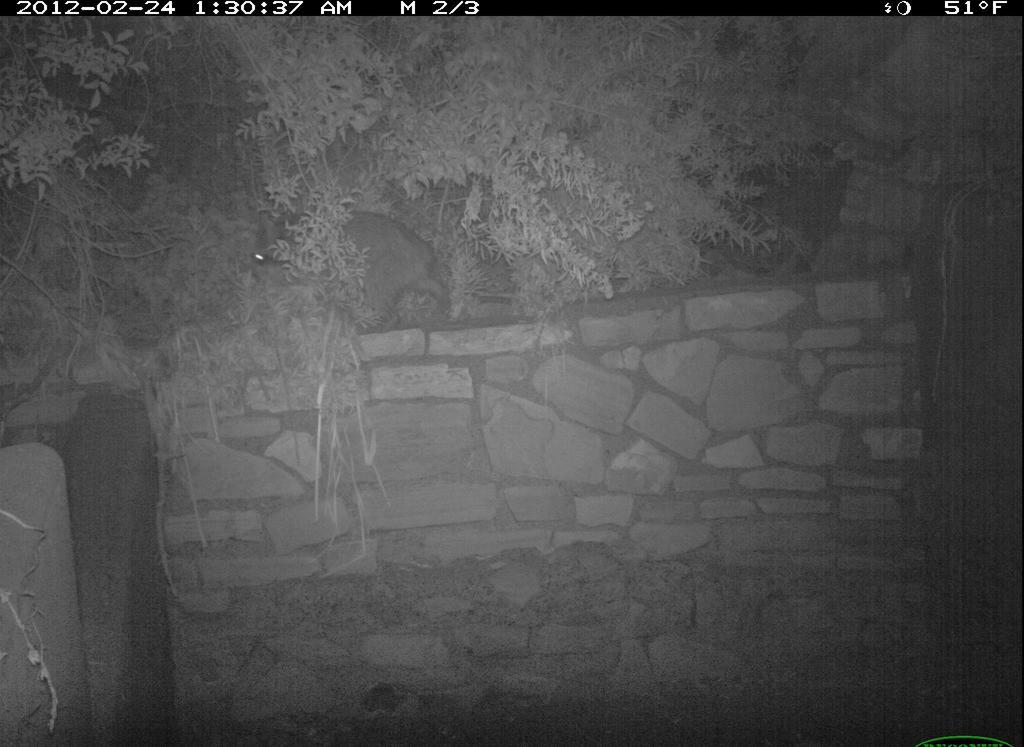raccoon: (249, 207, 457, 333)
